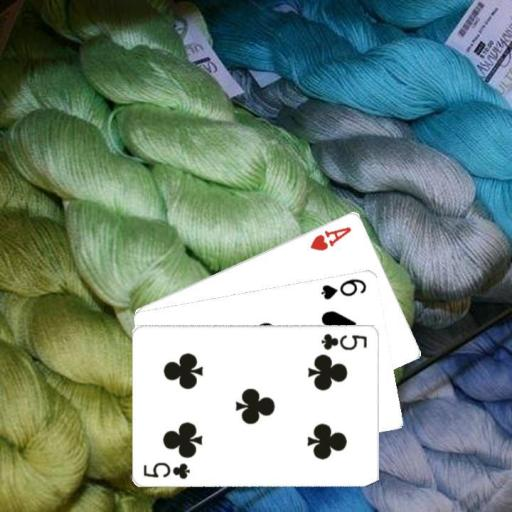5C: (141, 459, 192, 481), (319, 330, 369, 351)
6S: (318, 274, 368, 301)
AH: (307, 223, 354, 252)
